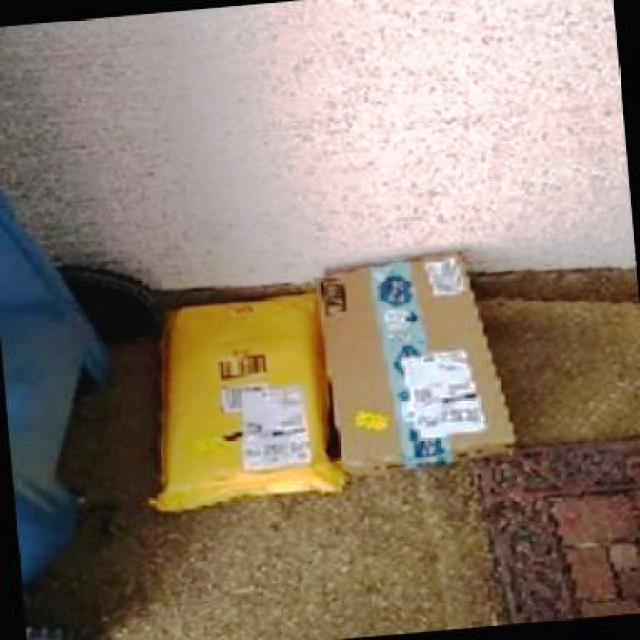Box: (126, 296, 343, 516), (315, 245, 516, 478)
